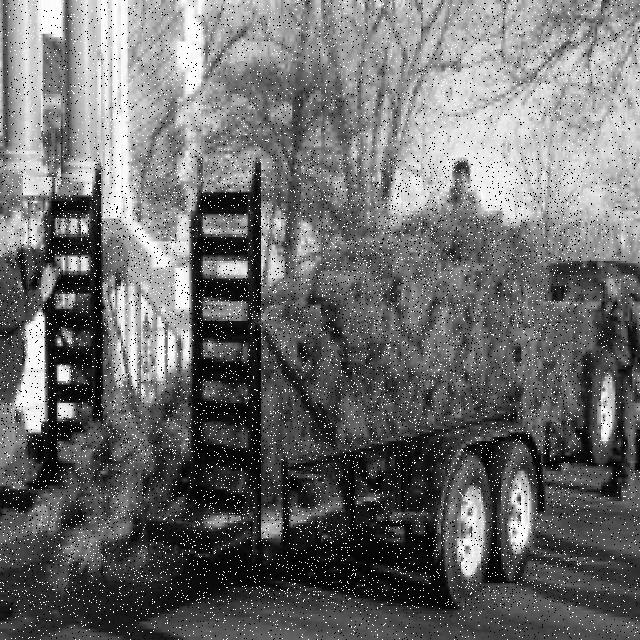Trailer: (0, 157, 581, 608)
